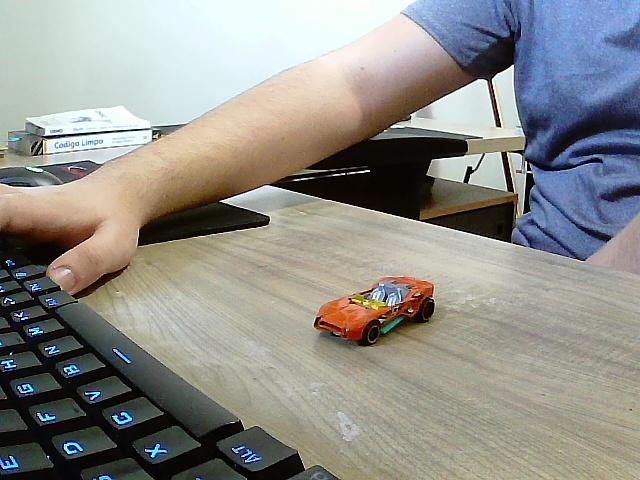Carro: (314, 277, 436, 347)
